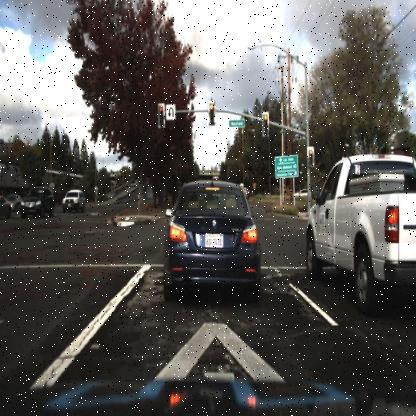car: (304, 151, 415, 315), (163, 176, 261, 304), (16, 185, 52, 218), (61, 188, 86, 212), (292, 186, 314, 202), (0, 194, 12, 220), (129, 178, 140, 188)
trafficLight-Red: (259, 108, 270, 140), (305, 142, 316, 172), (207, 100, 216, 126), (306, 146, 314, 168)
trafficLight-RedLeft: (156, 99, 166, 133), (157, 102, 165, 128)
